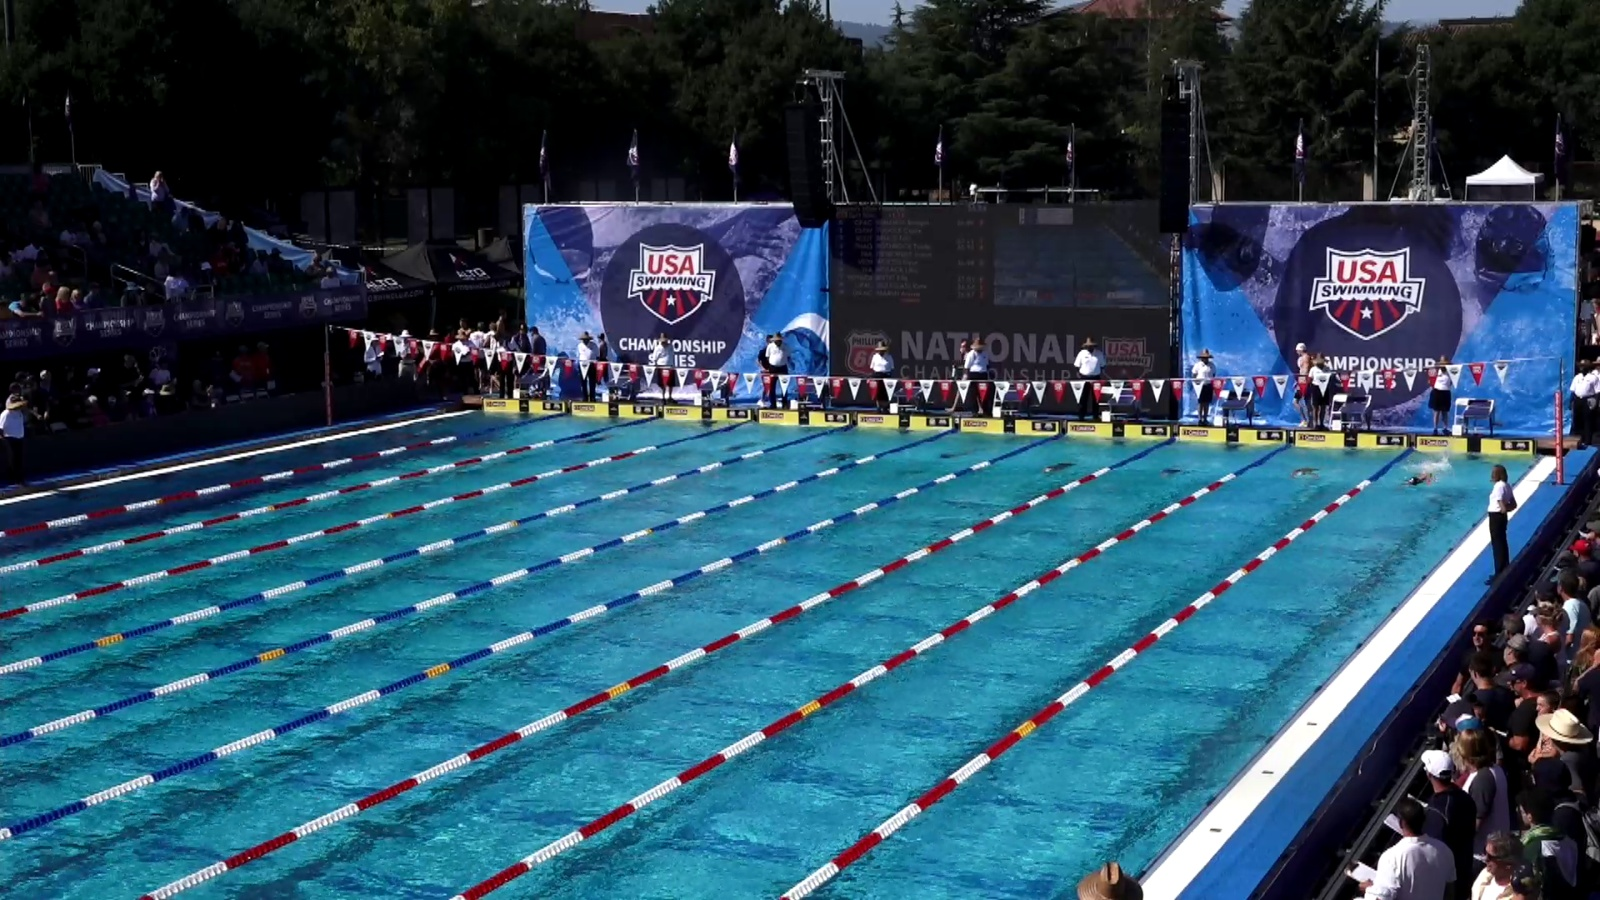swimmerw: (455, 434, 508, 460), (1403, 460, 1443, 490), (566, 431, 616, 453), (711, 440, 763, 456), (816, 449, 862, 465), (1289, 463, 1326, 479), (1157, 462, 1195, 478), (404, 427, 443, 443), (1038, 462, 1076, 474), (933, 449, 973, 460)
